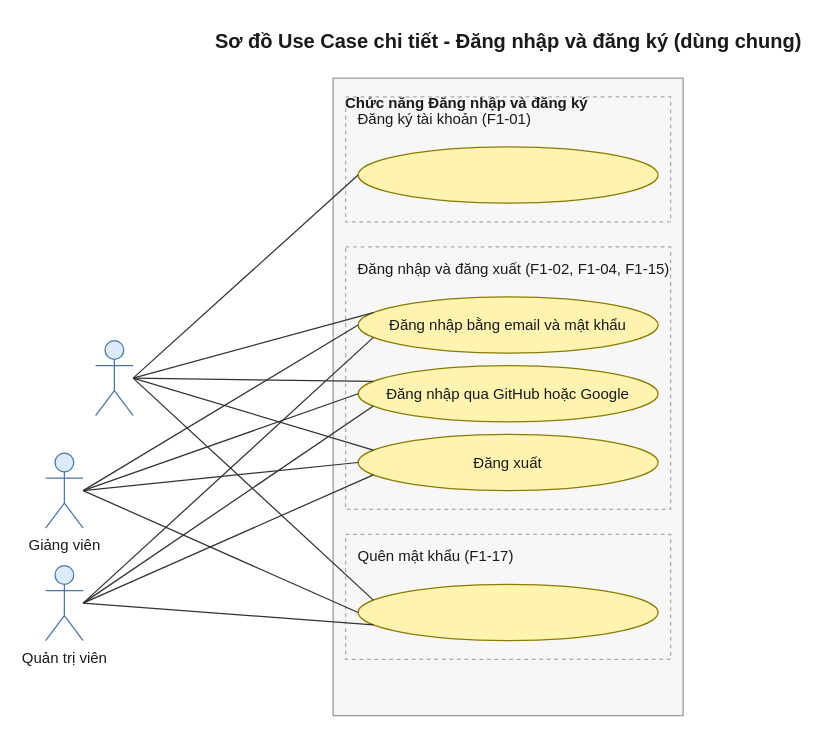
Image size: 823x738. Some labels were removed from this diagram. The centre of each missing label's shape, as x and y in pixels:
"Sinh viên" belongs at point 113,377.
"Tự đặt lại mật khẩu bằng mã 6 chữ số gửi qua email" belongs at point 507,612.
"Đăng ký tài khoản bằng email và mật khẩu" belongs at point 507,174.
